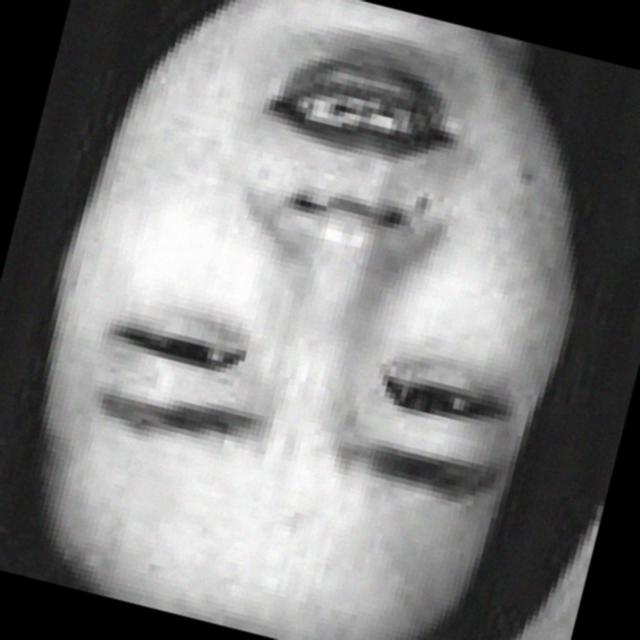disgust: (34, 0, 607, 626)
